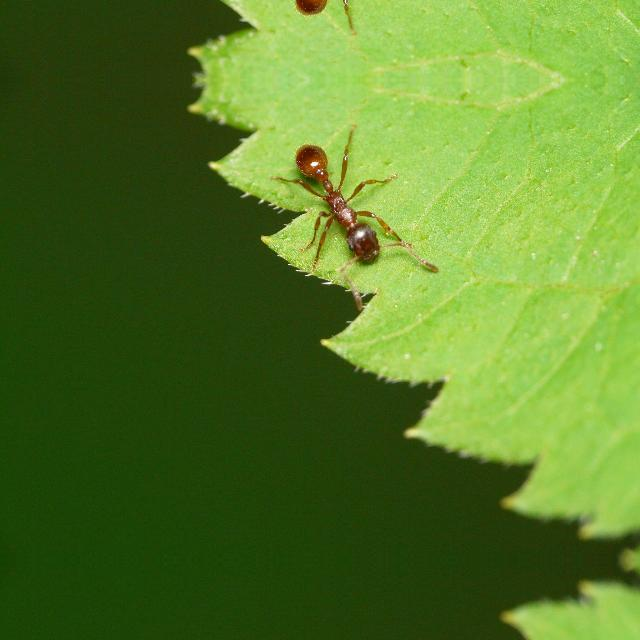Myrmica: (262, 126, 423, 280), (261, 0, 422, 32)
